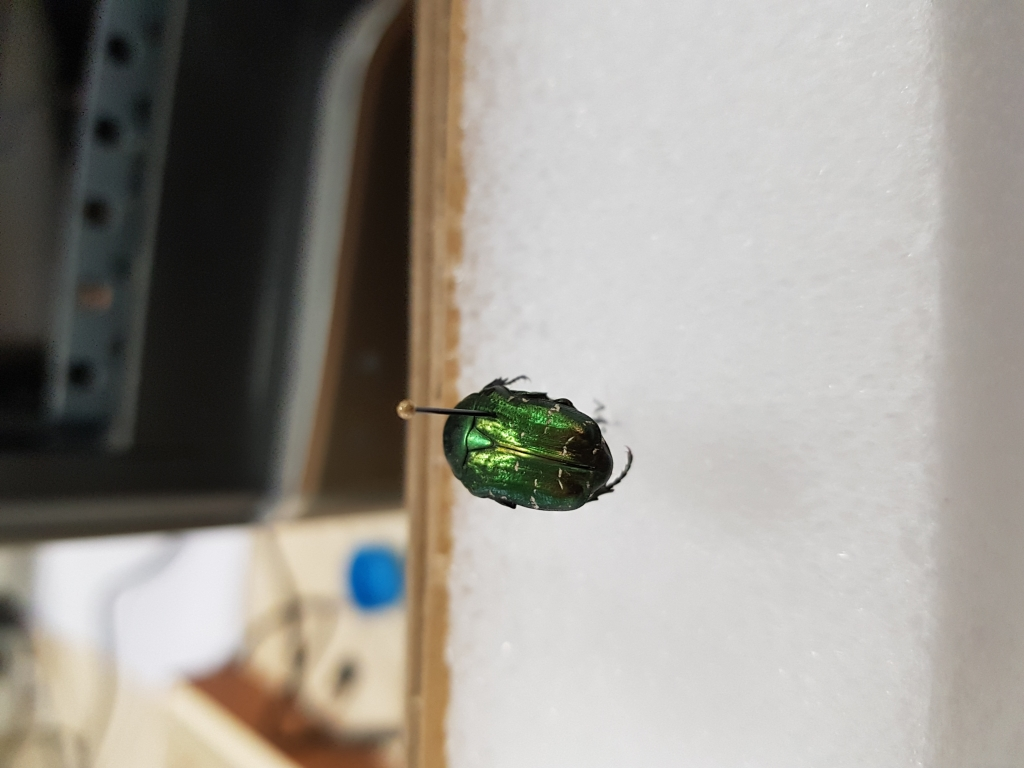Cetonia_kemali: (436, 367, 638, 525)
